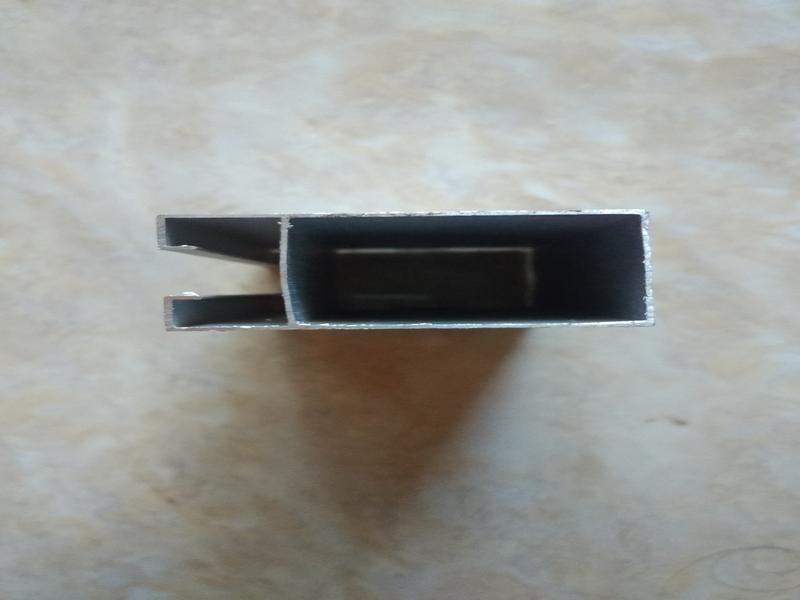Aluminium_1: (141, 197, 682, 332)
